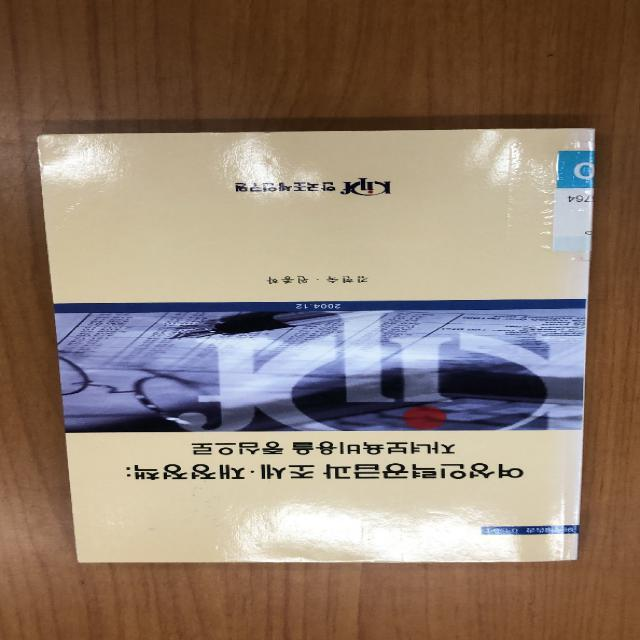Wornout: (575, 126, 600, 133)
